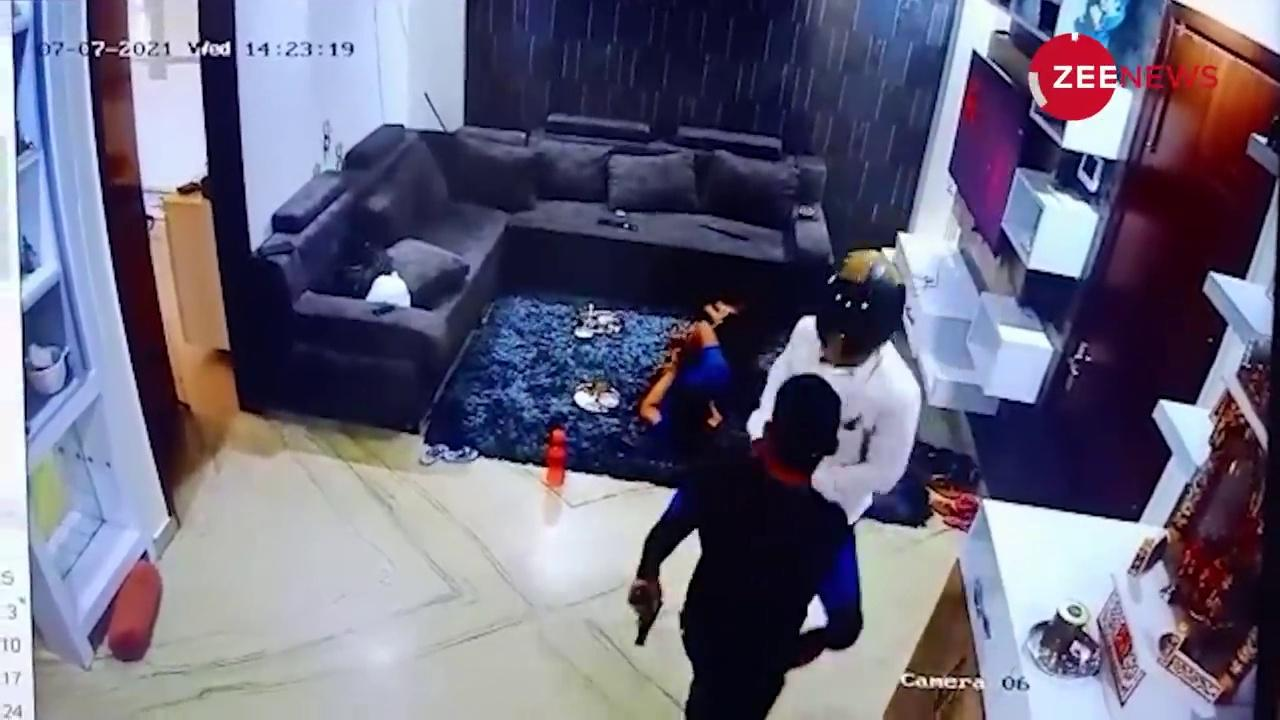weapon: (628, 579, 658, 651)
